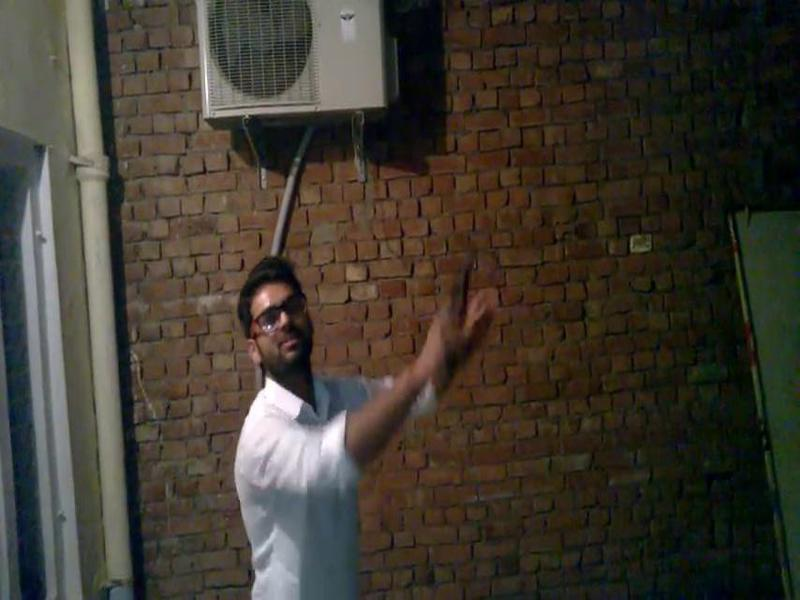Revolver: (427, 243, 489, 368)
